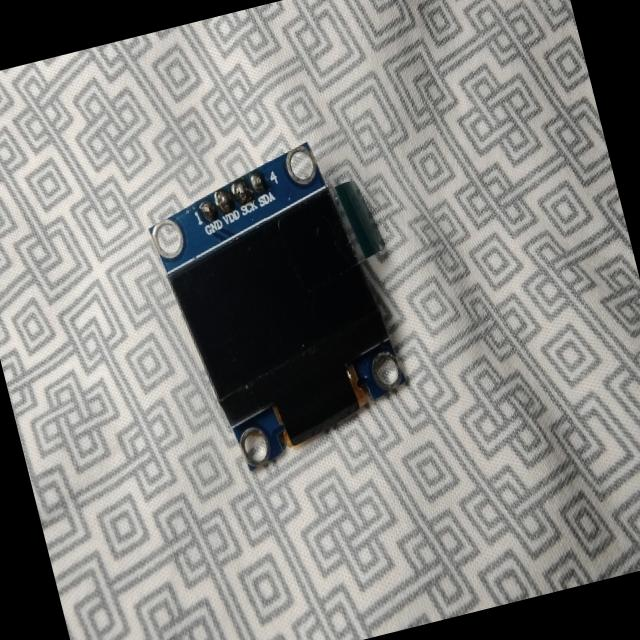oled: (134, 120, 436, 487)
